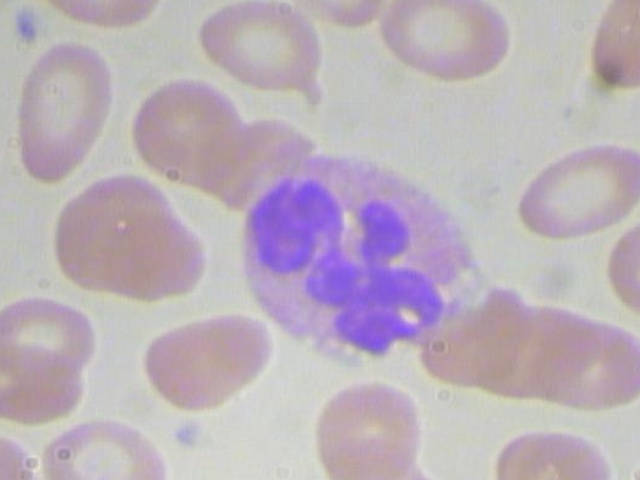Platelets: (2, 6, 51, 49)
RBC: (46, 172, 222, 310), (0, 35, 120, 184), (131, 303, 278, 418), (118, 73, 253, 193), (194, 0, 342, 108), (512, 129, 640, 244), (297, 371, 432, 480), (373, 0, 516, 82), (0, 286, 108, 383), (32, 410, 178, 480), (487, 421, 622, 480), (598, 209, 640, 325)
WBC: (226, 145, 489, 373)
